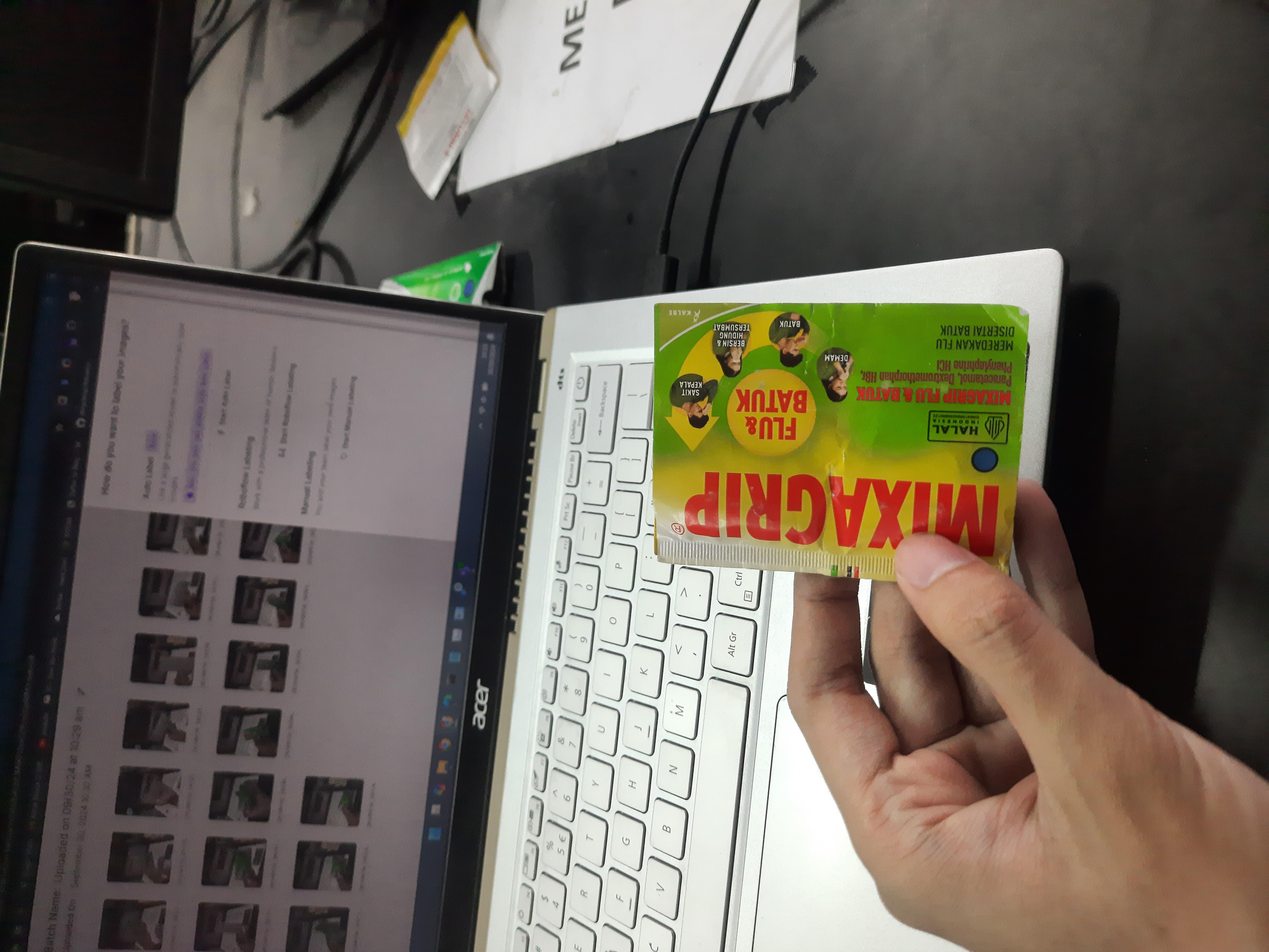Mixagrip Flu dan Batuk: (494, 490, 865, 772)
